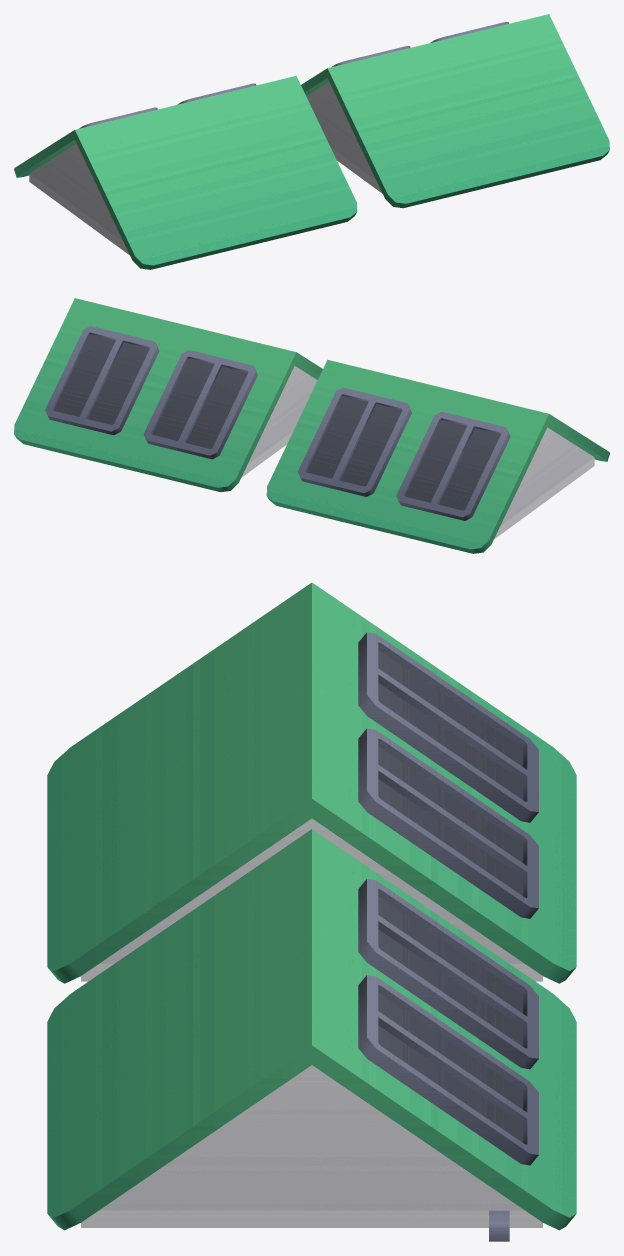
Rendered from suburban-b.glb.
3 renders of one model, top to bottom at view 1: azimuth 30°, elevation 25°; view 2: azimuth 150°, elevation 25°; view 3: azimuth 270°, elevation 25°, orthographic. The views are drawn at different scales.
Visible parts, largest first — view 1: building-type-b; view 2: building-type-b; view 3: building-type-b.
Part boxes in pixels (x1=…): building-type-b: x1=14, y1=14, x2=609, y2=269; building-type-b: x1=14, y1=298, x2=609, y2=553; building-type-b: x1=47, y1=582, x2=576, y2=1241.
Size of the model in its own units: 12.49 by 2.44 by 6.01.
1 material, 1 textured.
